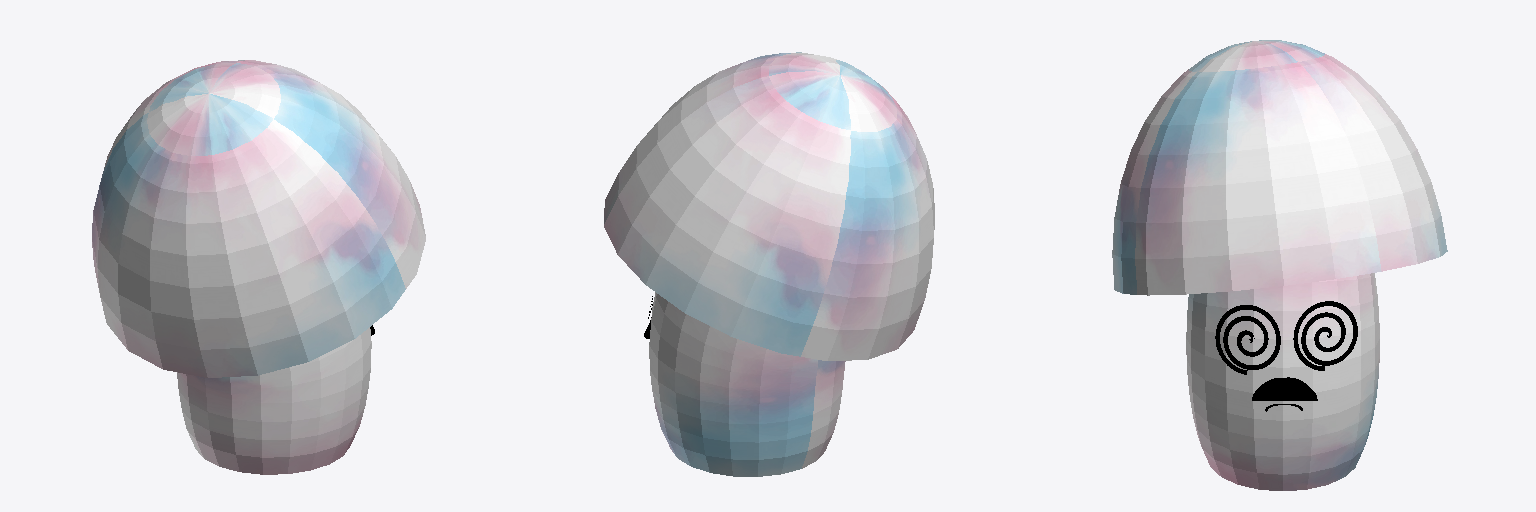
3 views of the same model, side by side, from view 1: azimuth 30°, elevation 25°; view 2: azimuth 150°, elevation 25°; view 3: azimuth 270°, elevation 25° (orthographic).
Visible parts, largest first — view 1: pSphere1, pCylinder1; view 2: pSphere1, pCylinder1; view 3: pSphere1, pCylinder1, pHelix2, pasted__pHelix2 group, pSphere3.
Part boxes in pixels (left/top/right/bottom): pSphere1: left=92, top=60, right=425, bottom=377; pCylinder1: left=177, top=327, right=371, bottom=474; pSphere1: left=604, top=52, right=934, bottom=360; pCylinder1: left=649, top=292, right=845, bottom=476; pSphere1: left=1112, top=40, right=1447, bottom=295; pCylinder1: left=1186, top=273, right=1379, bottom=490; pHelix2: left=1215, top=305, right=1280, bottom=374; pasted__pHelix2 group: left=1293, top=301, right=1357, bottom=370; pSphere3: left=1252, top=377, right=1317, bottom=400.
Bounding box in the file's own units: 8.09 × 10.33 × 8.13.
2 materials, 2 textured.